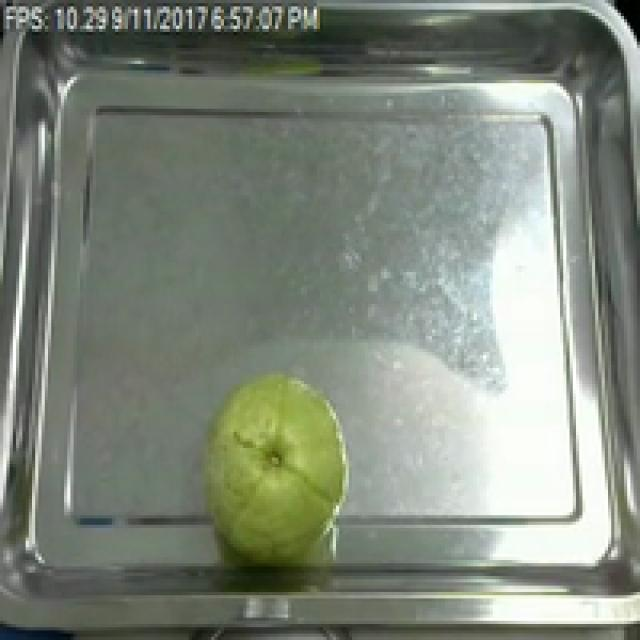Fruit: (182, 362, 362, 563)
